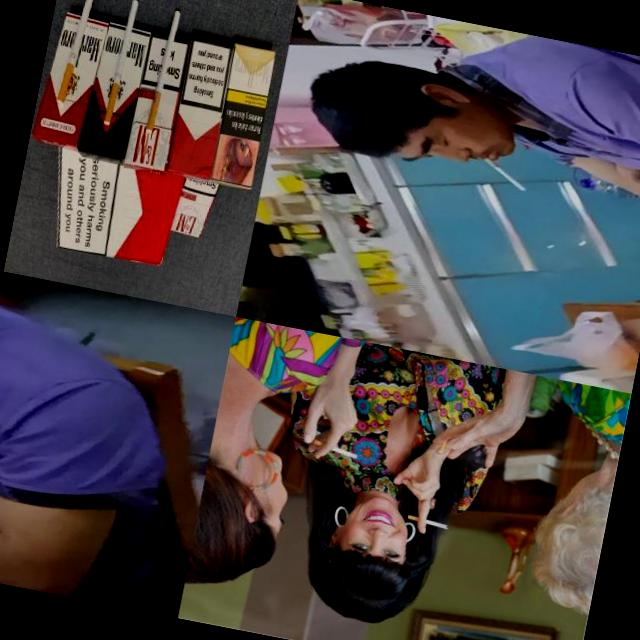smoke: (102, 0, 139, 127), (145, 9, 182, 134), (55, 0, 97, 107), (479, 156, 531, 192), (310, 438, 360, 460), (406, 514, 452, 530)
